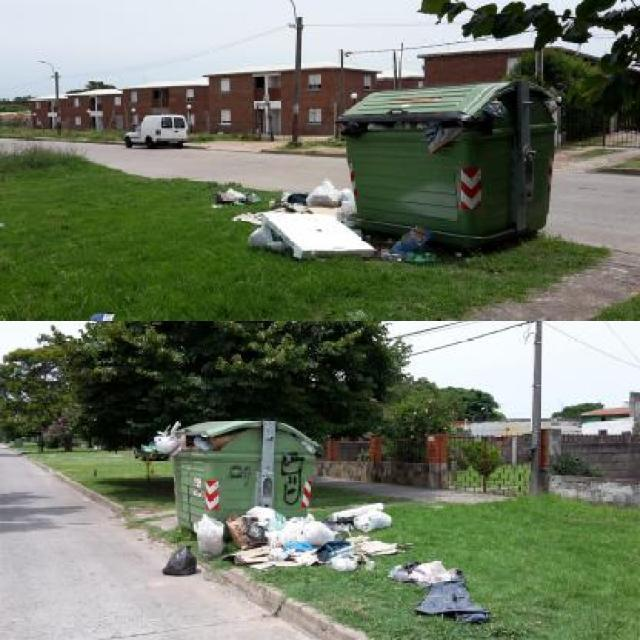garbage: (197, 510, 398, 569), (233, 214, 442, 263), (392, 566, 486, 622), (342, 117, 470, 144), (270, 178, 353, 213), (157, 420, 230, 453), (209, 180, 262, 212), (163, 543, 196, 576), (292, 432, 320, 456), (545, 89, 565, 116), (85, 309, 124, 321), (483, 102, 509, 116)
